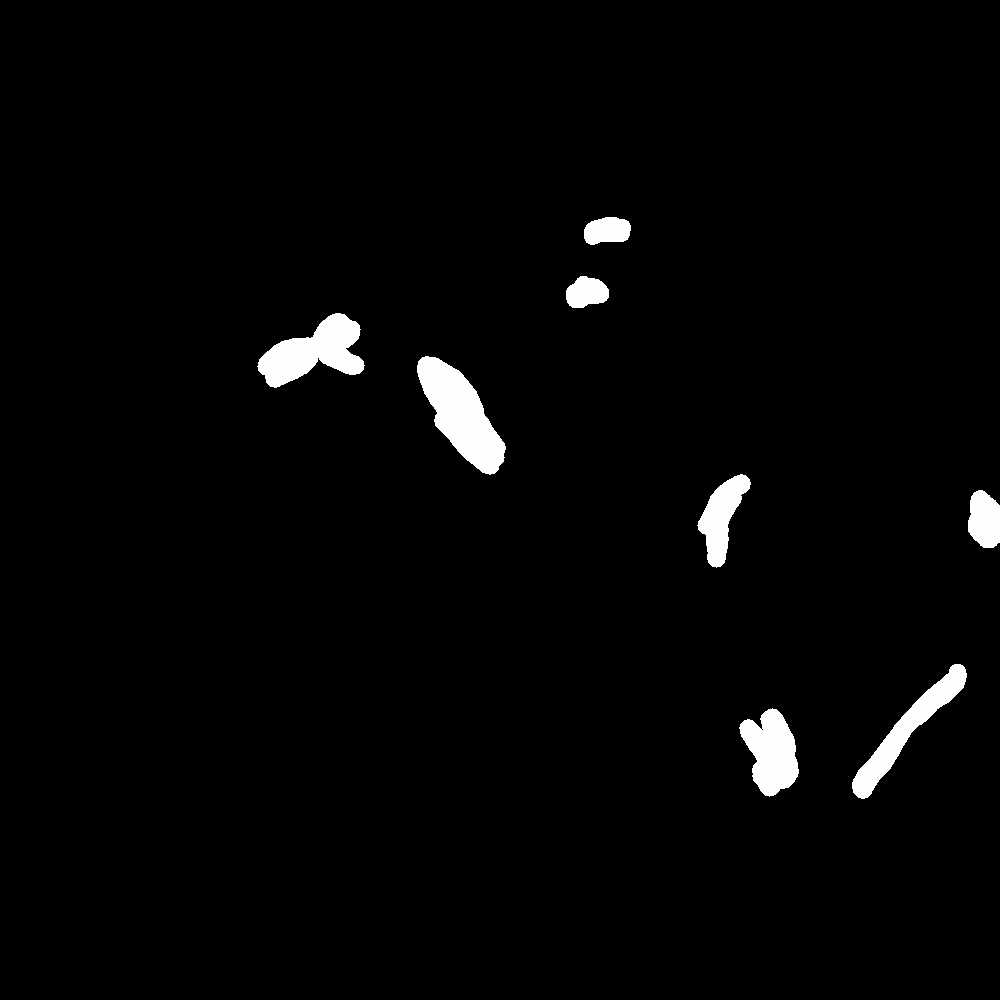illegal: (838, 604, 1000, 828), (694, 451, 761, 571), (727, 702, 805, 805)
